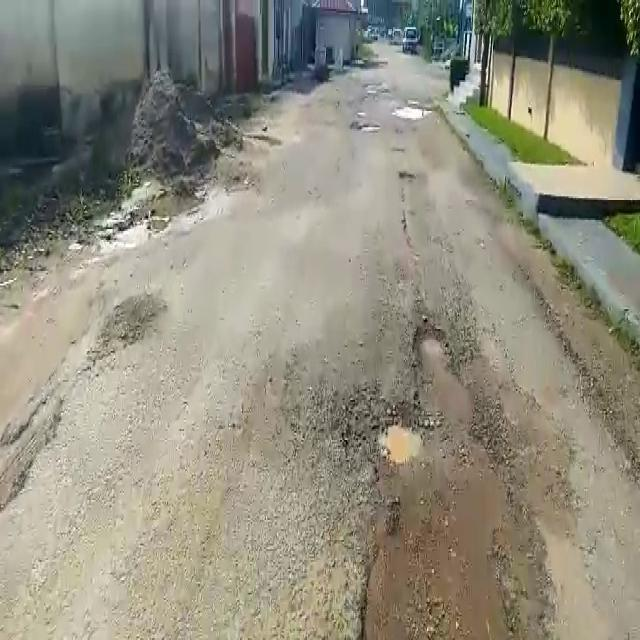pothole: (379, 416, 423, 463), (414, 323, 447, 371), (392, 104, 436, 124)
